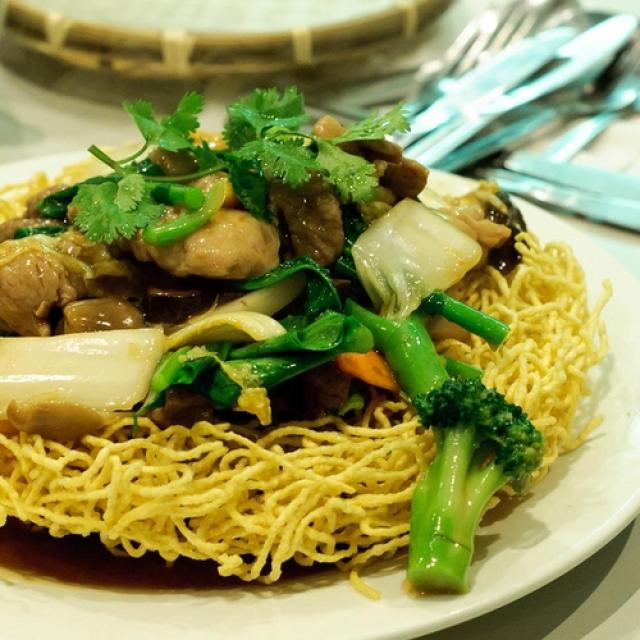面条主食: (0, 96, 635, 626)
